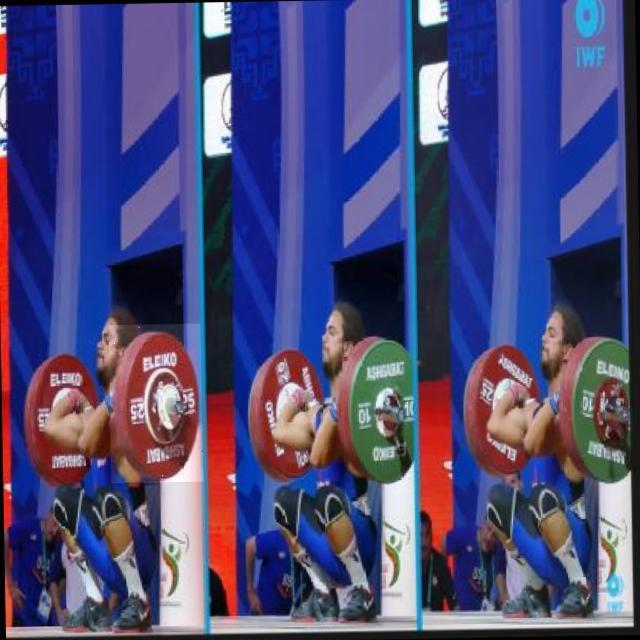barbell: (109, 325, 204, 487)
